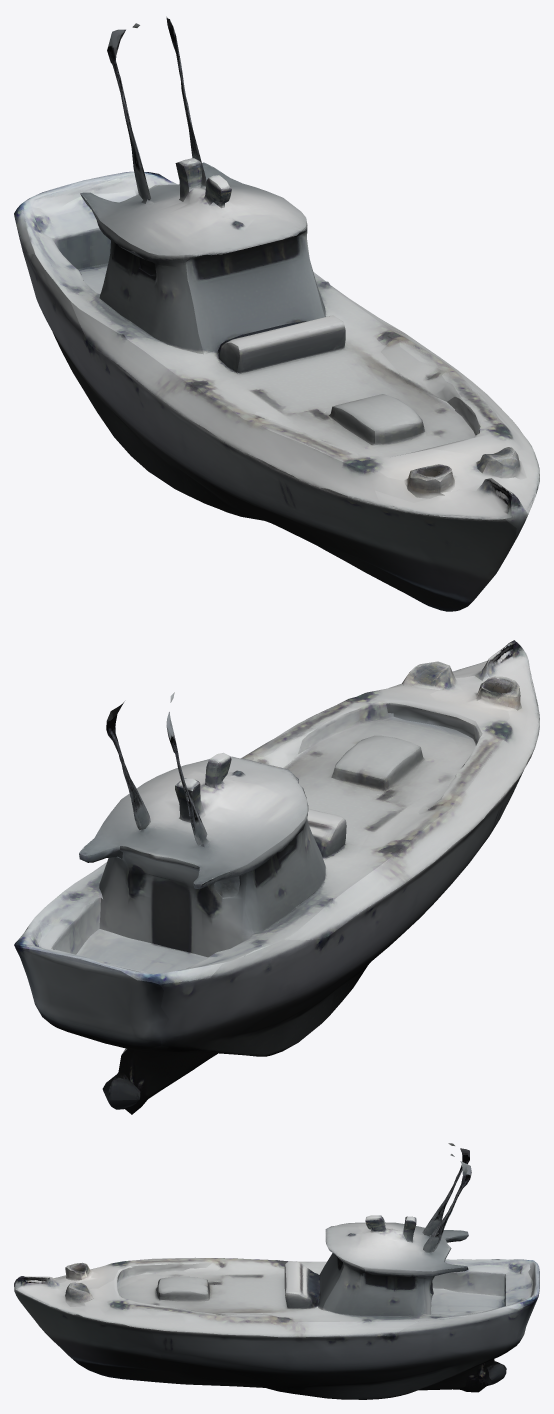
Rendered from patrol-boat.glb.
The picture shows the model from 3 angles, top to bottom: view 1: azimuth 30°, elevation 25°; view 2: azimuth 150°, elevation 25°; view 3: azimuth 270°, elevation 25°; orthographic projection. The views are drawn at different scales.
Parts seen in each view (by area): view 1: geometry_0; view 2: geometry_0; view 3: geometry_0.
Part boxes in pixels (x1,y1,x2,y2): geometry_0: (14, 16, 539, 611); geometry_0: (14, 640, 539, 1114); geometry_0: (14, 1143, 539, 1399).
Bounding box in the file's own units: 0.33 × 0.5126 × 1.
Materials: 1 (1 with a texture image).
